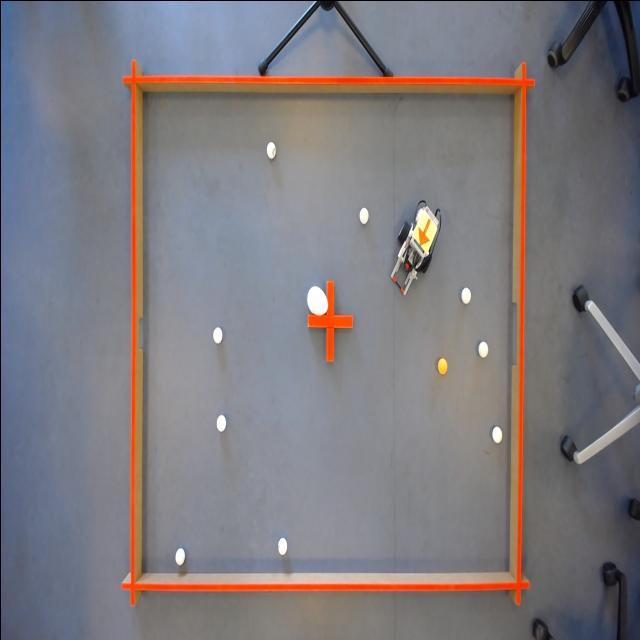cross: (305, 278, 354, 363)
egg: (305, 281, 327, 316)
orange_ball: (435, 355, 447, 375)
robot: (410, 207, 439, 257)
white_ball: (210, 322, 224, 344), (213, 410, 227, 432), (265, 138, 277, 162), (458, 284, 471, 306), (173, 545, 185, 567), (490, 424, 502, 445), (476, 338, 488, 358), (276, 535, 287, 556), (356, 205, 368, 224)
